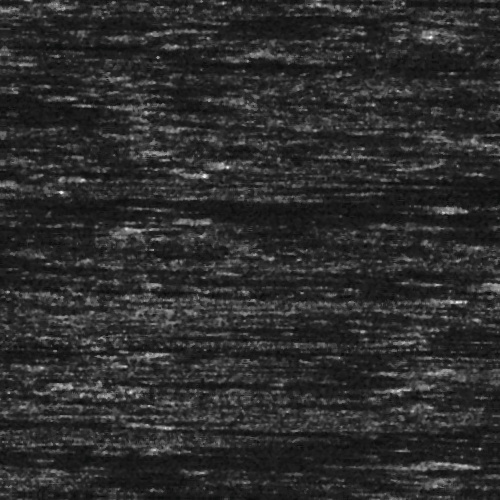object: (371, 196, 500, 207), (377, 454, 500, 465), (0, 180, 88, 193), (369, 330, 432, 339), (152, 167, 193, 180), (418, 289, 449, 296), (380, 379, 411, 384)
shadow: (0, 454, 449, 465), (31, 196, 438, 207), (239, 330, 400, 339), (86, 167, 172, 180), (353, 289, 433, 296), (314, 379, 396, 384)
